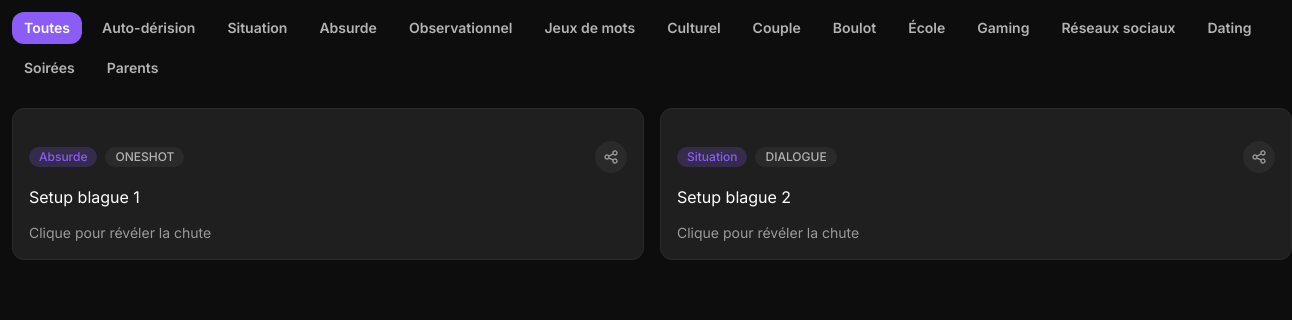
Test: BlaguesList › reveals punchline on card click
Click the text "Setup blague 1". click: (84, 197)
box: [29,187,140,207]
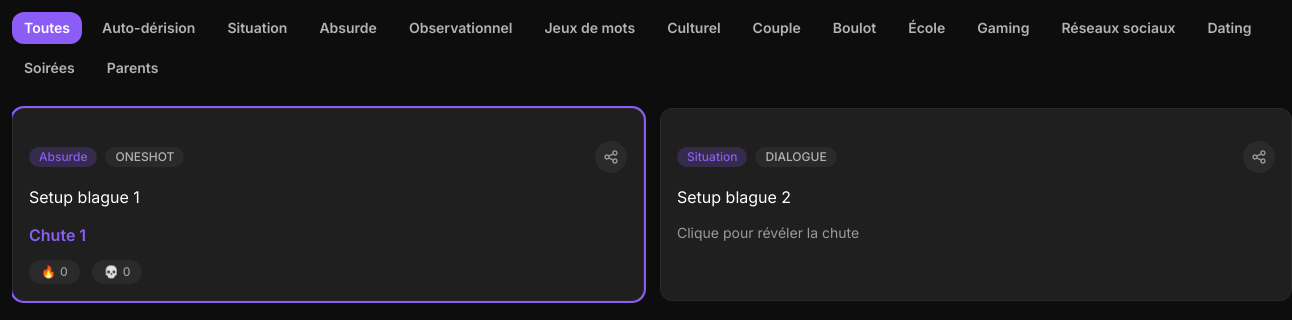
Check: the text "Chute 1" is shown, box [29,225,86,245]
